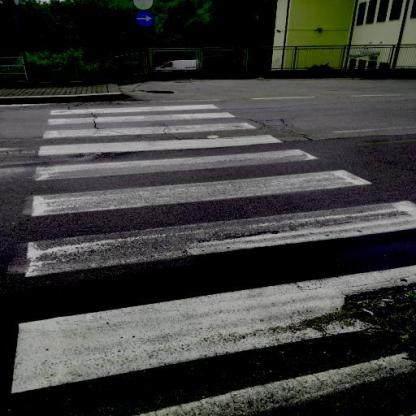crosswalk: (23, 146, 376, 224), (41, 101, 244, 128)
